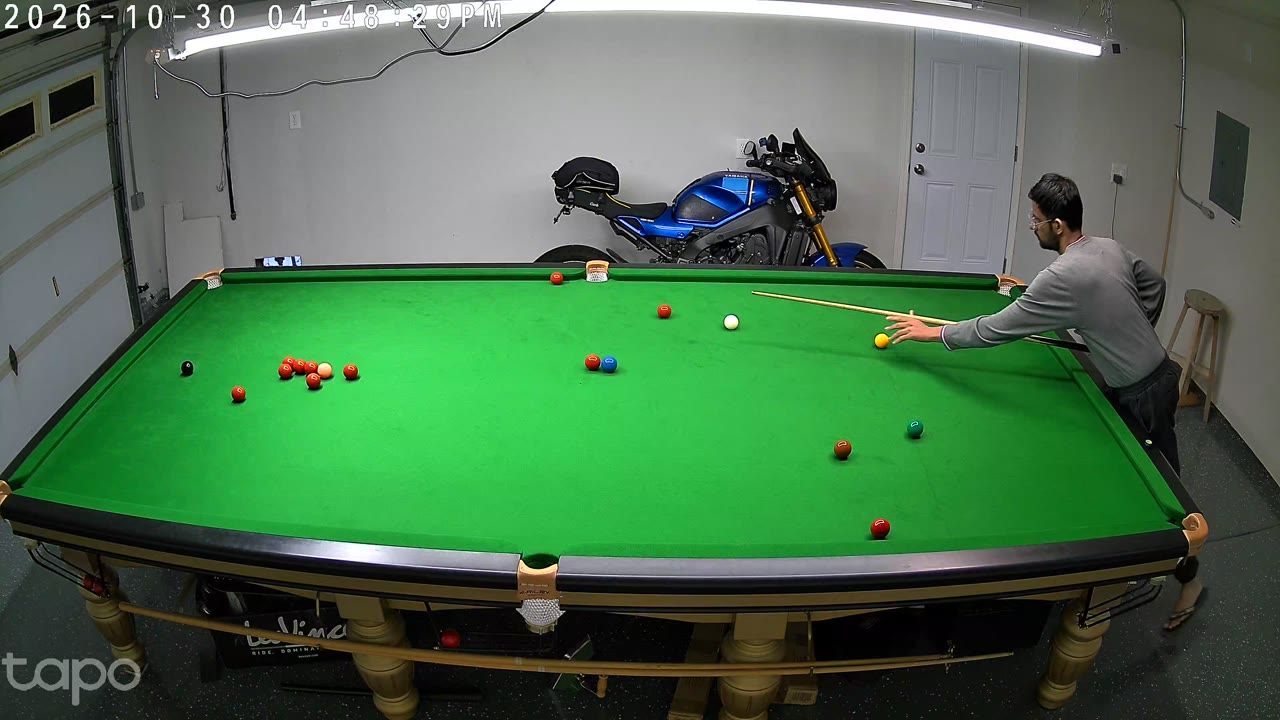black: (182, 359, 193, 378)
blue: (602, 355, 616, 376)
brown: (834, 438, 852, 463)
green: (906, 417, 923, 442)
pink: (318, 362, 331, 381)
red: (869, 516, 891, 546), (232, 385, 246, 405), (585, 353, 599, 373), (308, 371, 321, 391), (344, 363, 357, 382), (279, 362, 291, 382), (284, 356, 295, 376), (658, 303, 670, 320), (305, 361, 316, 379), (551, 271, 562, 287), (295, 359, 305, 376)
white: (724, 314, 738, 333)
yellow: (875, 332, 887, 351)
